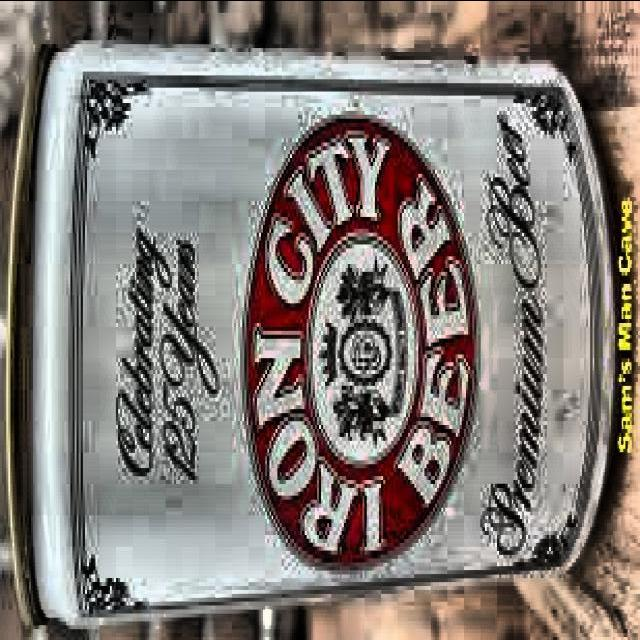Aluminum Can: (6, 0, 626, 640)
